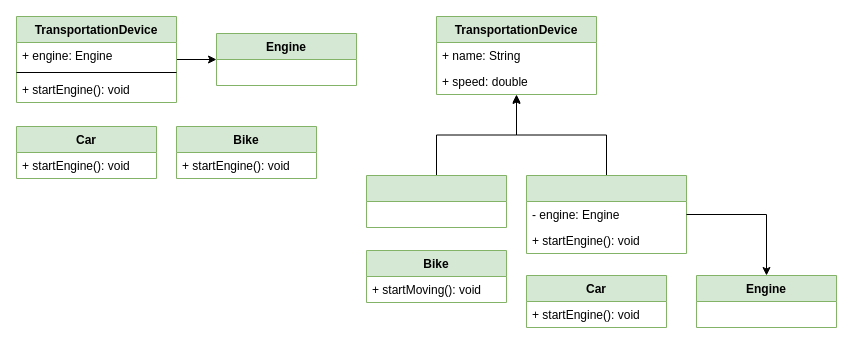
Some shapes in this 853 by 344 pixel diagram are drawn without their labels. The box of each missing label's shape, as (x1, y1, x2, y2) in pixels:
DeviceWithEngine: (526, 174, 686, 254)
DeviceWithoutEngine: (366, 174, 506, 228)
